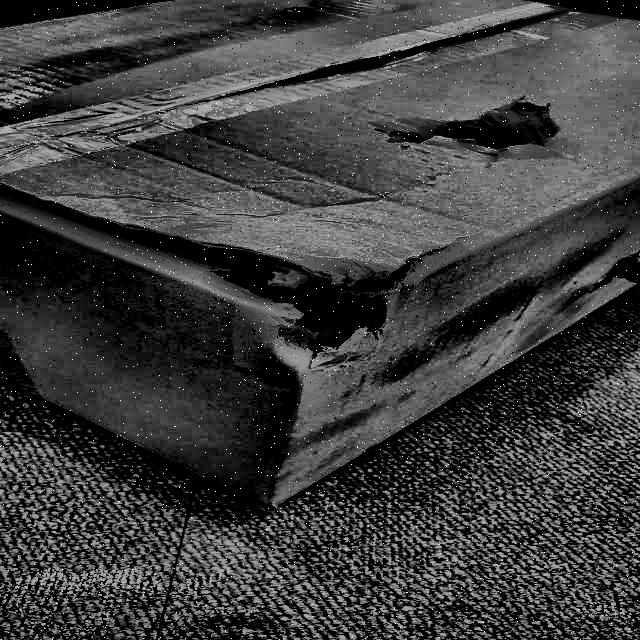box: (1, 0, 640, 529)
hole: (188, 241, 436, 354), (375, 113, 535, 156)
